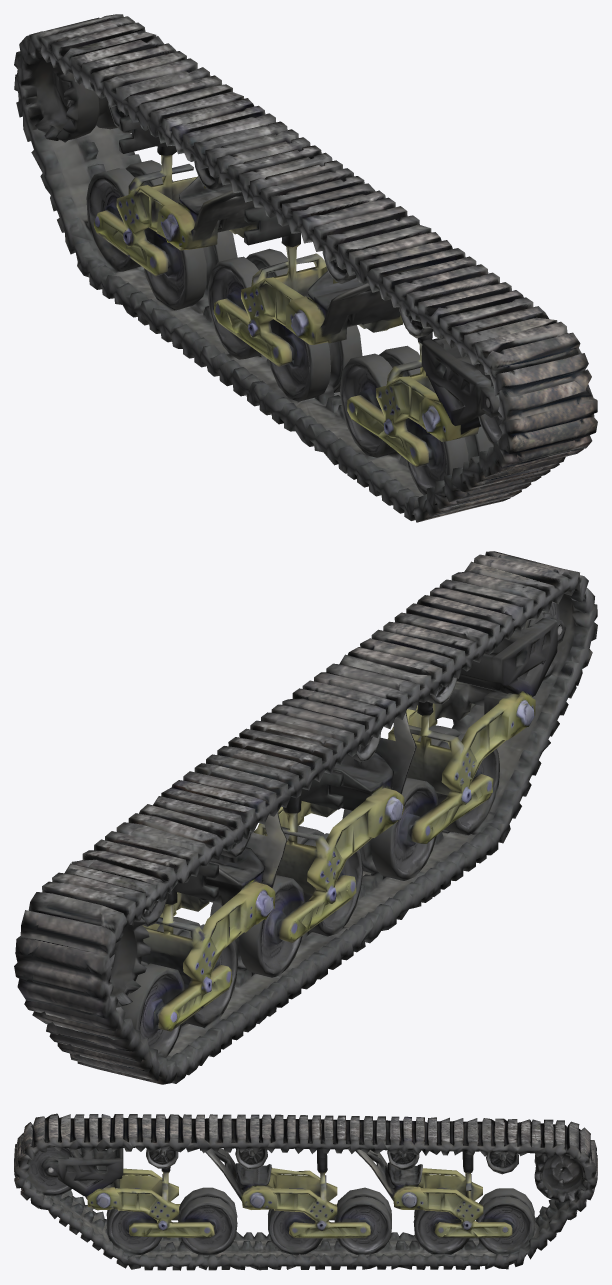
The model's file is tread.glb.
3 views of the same model, one above another, from view 1: azimuth 30°, elevation 25°; view 2: azimuth 150°, elevation 25°; view 3: azimuth 270°, elevation 25° (orthographic). The views are drawn at different scales.
Visible parts, largest first — view 1: tripo_node_acaed0bd-8188-48bd-9cd3-5bd2860a843c; view 2: tripo_node_acaed0bd-8188-48bd-9cd3-5bd2860a843c; view 3: tripo_node_acaed0bd-8188-48bd-9cd3-5bd2860a843c.
Boxes of the visible parts, x1,y1,x2,y2 form: tripo_node_acaed0bd-8188-48bd-9cd3-5bd2860a843c: [14, 14, 597, 522]; tripo_node_acaed0bd-8188-48bd-9cd3-5bd2860a843c: [14, 551, 597, 1084]; tripo_node_acaed0bd-8188-48bd-9cd3-5bd2860a843c: [14, 1113, 597, 1270].
Bounding box in the file's own units: 0.1158 × 0.2461 × 0.9806.
Materials: 1 (1 with a texture image).
